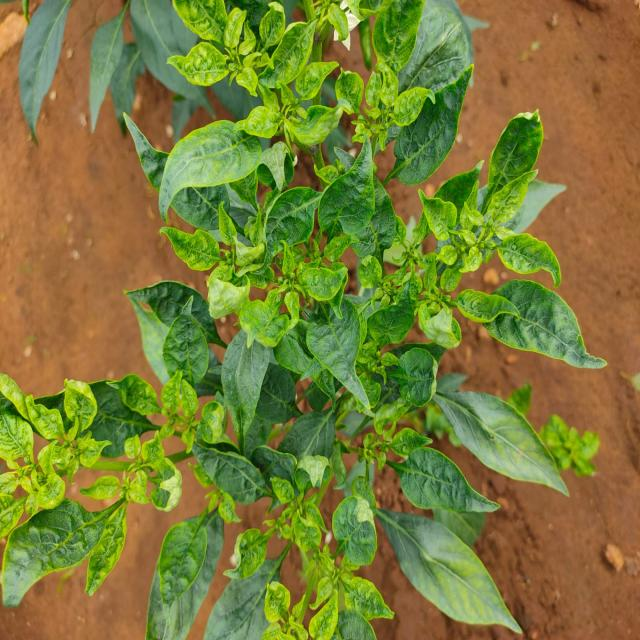Moko: (371, 124, 574, 363), (160, 195, 367, 329), (225, 471, 384, 636), (145, 86, 357, 190), (336, 328, 446, 495), (0, 351, 98, 538), (156, 0, 330, 104), (69, 402, 172, 574), (318, 39, 455, 150), (138, 332, 210, 506), (538, 383, 615, 495), (336, 0, 457, 69), (168, 454, 230, 538)
